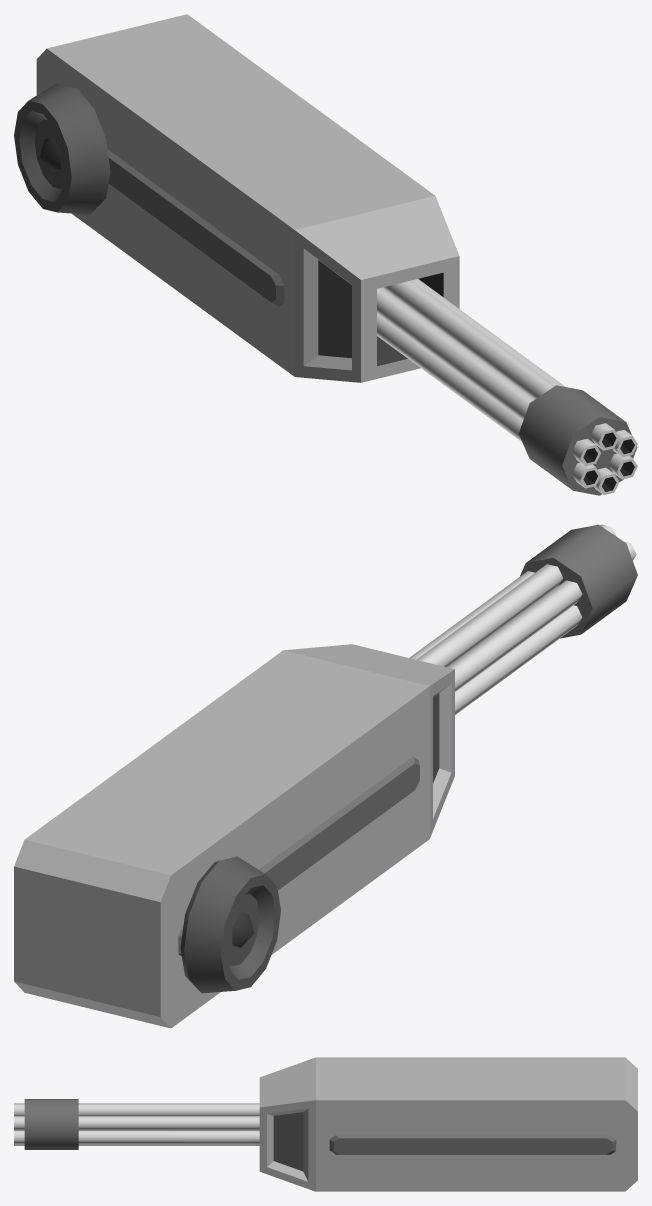
File: turret_011.fbx
3 views of the same model, one above another, from view 1: azimuth 30°, elevation 25°; view 2: azimuth 150°, elevation 25°; view 3: azimuth 270°, elevation 25° (orthographic). The views are drawn at different scales.
Parts seen in each view (by area): view 1: turret_011; view 2: turret_011; view 3: turret_011.
Boxes of the visible parts, <box> form: turret_011: <box>14,14,637,495</box>; turret_011: <box>14,524,637,1028</box>; turret_011: <box>14,1057,637,1191</box>.
Bounding box in the file's own units: 119 × 547 × 88.58.
